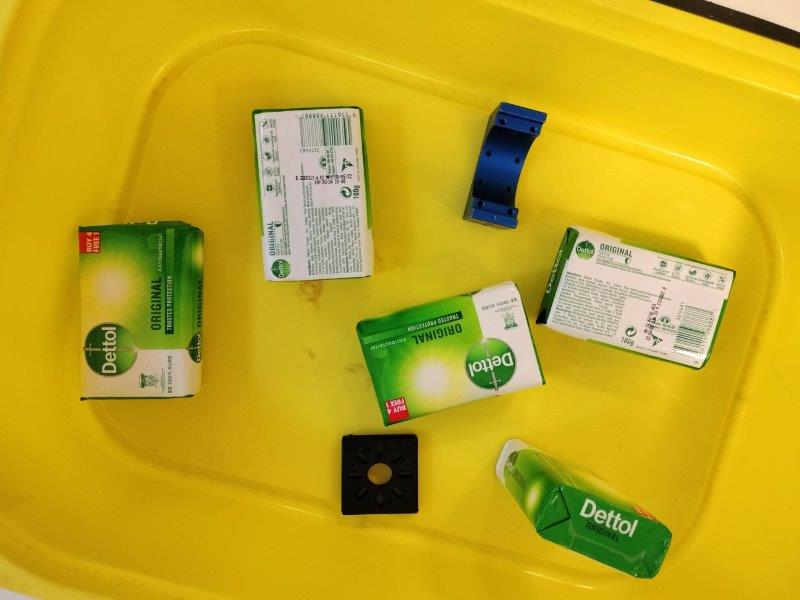Dettol: (535, 225, 736, 370), (356, 281, 547, 426), (495, 437, 673, 580), (76, 223, 206, 398), (251, 105, 376, 281)
